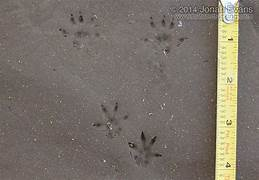rat: (140, 11, 188, 65), (127, 130, 164, 172), (91, 99, 128, 140)
